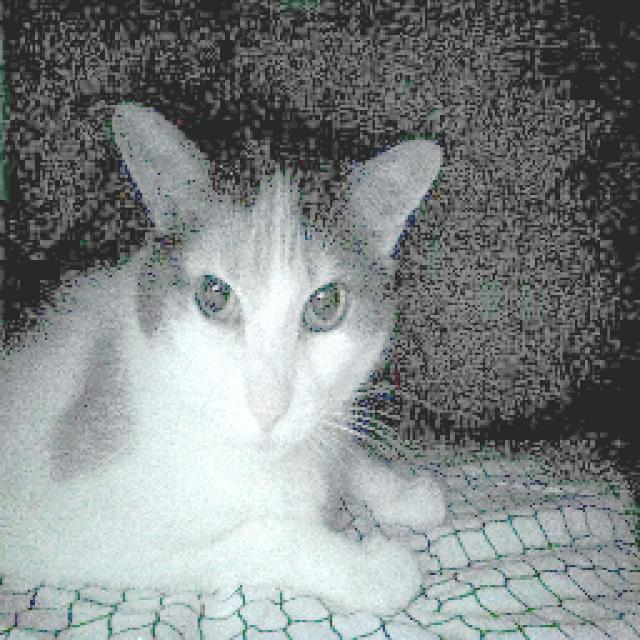cat: (0, 92, 455, 628)
